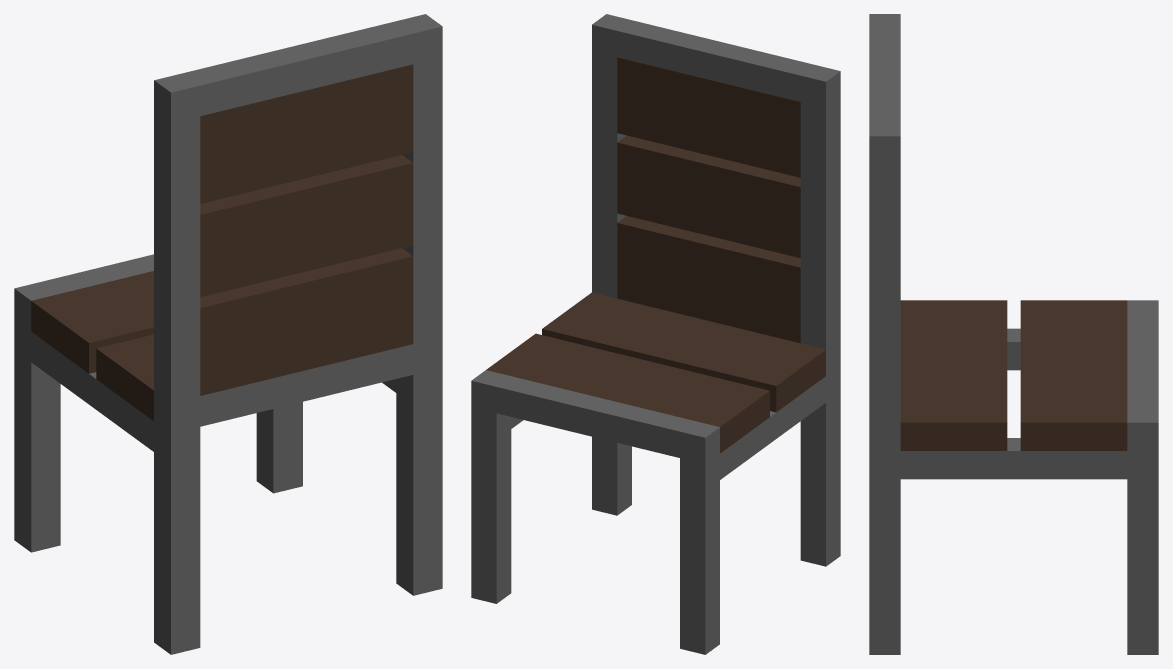
The model's file is CafeChair.fbx.
The picture shows the model from 3 angles, left to right: view 1: azimuth 30°, elevation 25°; view 2: azimuth 150°, elevation 25°; view 3: azimuth 270°, elevation 25°; orthographic projection. The views are drawn at different scales.
Visible parts, largest first — view 1: CafeChair; view 2: CafeChair; view 3: CafeChair.
Boxes of the visible parts, left/top/right/bottom form: CafeChair: left=14, top=14, right=442, bottom=654; CafeChair: left=471, top=14, right=840, bottom=654; CafeChair: left=869, top=14, right=1158, bottom=654.
Size of the model in its own units: 0.7073 by 0.7073 by 1.4.
